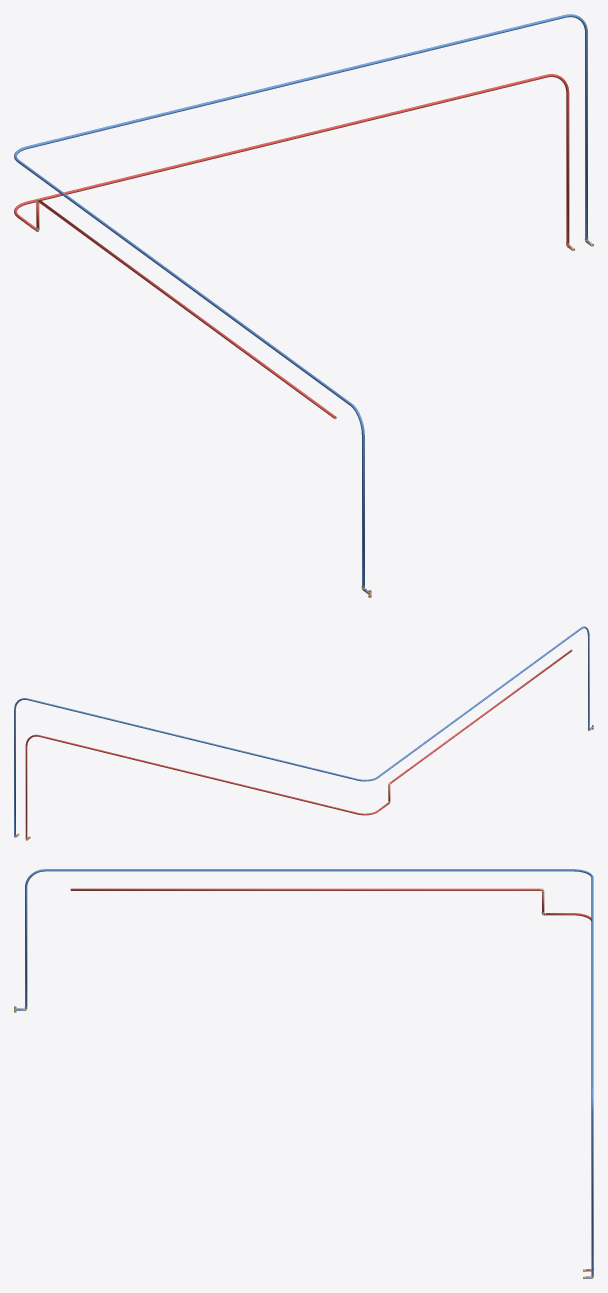
File: slab_pipes_supply__water_heater-garage_electric_tankless_and_plumbing-pex_branch.glb
3 views of the same model, one above another, from view 1: azimuth 30°, elevation 25°; view 2: azimuth 150°, elevation 25°; view 3: azimuth 270°, elevation 25° (orthographic). The views are drawn at different scales.
Parts seen in each view (by area): view 1: pipe_supply_tb_cold_wh_etankless, pipe_supply_tb_hot_wh_etankless; view 2: pipe_supply_tb_cold_wh_etankless, pipe_supply_tb_hot_wh_etankless; view 3: pipe_supply_tb_cold_wh_etankless, pipe_supply_tb_hot_wh_etankless.
Boxes of the visible parts, bbox=[...] form: pipe_supply_tb_cold_wh_etankless: bbox=[14, 14, 590, 592]; pipe_supply_tb_hot_wh_etankless: bbox=[14, 74, 571, 418]; pipe_supply_tb_cold_wh_etankless: bbox=[14, 626, 592, 836]; pipe_supply_tb_hot_wh_etankless: bbox=[25, 649, 572, 839]; pipe_supply_tb_cold_wh_etankless: bbox=[16, 869, 593, 1278]; pipe_supply_tb_hot_wh_etankless: bbox=[70, 888, 591, 1271].
Size of the model in its own units: 4.96 by 1.89 by 5.39.
